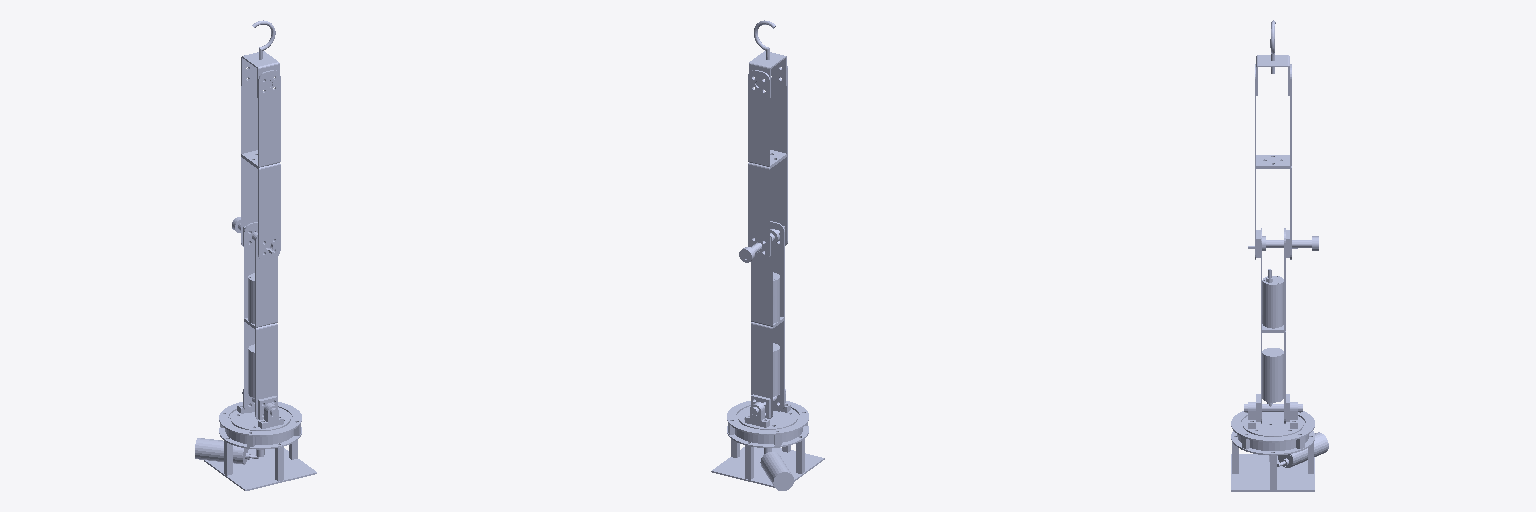
The robot description file, URDF, robot "Arm_Planet":
<?xml version="1.0" encoding="utf-8"?>
<!-- This URDF was automatically created by SolidWorks to URDF Exporter! Originally created by [author] ([email redacted]) 
     Commit Version: 1.6.0-1-g15f4949  Build Version: 1.6.7594.29634
     For more information, please see http://wiki.ros.org/sw_urdf_exporter -->
<robot
  name="Arm_Planet">
  <link
    name="base_link">
    <inertial>
      <origin
        xyz="-0.0141014063334698 0.0150363298774114 0.0206389702337933"
        rpy="0 0 0" />
      <mass
        value="0.0756504945211481" />
      <inertia
        ixx="3.72825003698555E-05"
        ixy="4.34660129124362E-06"
        ixz="4.06394105028578E-08"
        iyy="3.7356825493195E-05"
        iyz="-3.42845642809734E-08"
        izz="6.89161311210801E-05" />
    </inertial>
    <visual>
      <origin
        xyz="0 0 0"
        rpy="0 0 0" />
      <geometry>
        <mesh
          filename="package://Arm_Planet/meshes/base_link.STL" />
      </geometry>
      <material
        name="">
        <color
          rgba="0.792156862745098 0.819607843137255 0.933333333333333 1" />
      </material>
    </visual>
    <collision>
      <origin
        xyz="0 0 0"
        rpy="0 0 0" />
      <geometry>
        <mesh
          filename="package://Arm_Planet/meshes/base_link.STL" />
      </geometry>
    </collision>
  </link>
  <link
    name="swivel_link">
    <inertial>
      <origin
        xyz="-5.87917836688059E-06 5.87917836659957E-06 0.0577660567706198"
        rpy="0 0 0" />
      <mass
        value="0.0671123683100131" />
      <inertia
        ixx="3.26080656137997E-05"
        ixy="-2.25017714900538E-09"
        ixz="6.07725837555731E-22"
        iyy="3.29676327601522E-05"
        iyz="9.69541639612245E-22"
        izz="6.17257454202734E-05" />
    </inertial>
    <visual>
      <origin
        xyz="0 0 0"
        rpy="0 0 0" />
      <geometry>
        <mesh
          filename="package://Arm_Planet/meshes/swivel_link.STL" />
      </geometry>
      <material
        name="">
        <color
          rgba="0.792156862745098 0.819607843137255 0.933333333333333 1" />
      </material>
    </visual>
    <collision>
      <origin
        xyz="0 0 0"
        rpy="0 0 0" />
      <geometry>
        <mesh
          filename="package://Arm_Planet/meshes/swivel_link.STL" />
      </geometry>
    </collision>
  </link>
  <joint
    name="swivel_joint"
    type="continuous">
    <origin
      xyz="0 0 0"
      rpy="0 0 0" />
    <parent
      link="base_link" />
    <child
      link="swivel_link" />
    <axis
      xyz="0 0 1" />
    <limit
      lower="0"
      upper="0"
      effort="0"
      velocity="0" />
  </joint>
  <link
    name="planar_link_1">
    <inertial>
      <origin
        xyz="0.0861648271497534 0.00122459336292865 2.70214300849142E-05"
        rpy="0 0 0" />
      <mass
        value="0.10541072764971" />
      <inertia
        ixx="1.58996439496541E-05"
        ixy="-5.07791233841799E-09"
        ixz="-4.27972746139563E-09"
        iyy="7.48290537126194E-05"
        iyz="9.52185509306452E-09"
        izz="6.96582925138146E-05" />
    </inertial>
    <visual>
      <origin
        xyz="0 0 0"
        rpy="0 0 0" />
      <geometry>
        <mesh
          filename="package://Arm_Planet/meshes/planar_link_1.STL" />
      </geometry>
      <material
        name="">
        <color
          rgba="0.792156862745098 0.819607843137255 0.933333333333333 1" />
      </material>
    </visual>
    <collision>
      <origin
        xyz="0 0 0"
        rpy="0 0 0" />
      <geometry>
        <mesh
          filename="package://Arm_Planet/meshes/planar_link_1.STL" />
      </geometry>
    </collision>
  </link>
  <joint
    name="planar_joint_1"
    type="continuous">
    <origin
      xyz="0 0 0.086"
      rpy="1.5708 -1.5708 0" />
    <parent
      link="swivel_link" />
    <child
      link="planar_link_1" />
    <axis
      xyz="0 0 1" />
    <limit
      lower="0"
      upper="0"
      effort="0"
      velocity="0" />
  </joint>
  <link
    name="planar_link_2">
    <inertial>
      <origin
        xyz="0.0958032517884897 -1.22818422099158E-15 -0.00289882232752531"
        rpy="0 0 0" />
      <mass
        value="0.0525608874236978" />
      <inertia
        ixx="2.05582341768284E-05"
        ixy="4.41903180393255E-21"
        ixz="-6.09851877156358E-21"
        iyy="6.71893344302594E-05"
        iyz="-7.20235502011744E-21"
        izz="5.34389348709685E-05" />
    </inertial>
    <visual>
      <origin
        xyz="0 0 0"
        rpy="0 0 0" />
      <geometry>
        <mesh
          filename="package://Arm_Planet/meshes/planar_link_2.STL" />
      </geometry>
      <material
        name="">
        <color
          rgba="0.792156862745098 0.819607843137255 0.933333333333333 1" />
      </material>
    </visual>
    <collision>
      <origin
        xyz="0 0 0"
        rpy="0 0 0" />
      <geometry>
        <mesh
          filename="package://Arm_Planet/meshes/planar_link_2.STL" />
      </geometry>
    </collision>
  </link>
  <joint
    name="planar_joint_2"
    type="continuous">
    <origin
      xyz="0.215 0 0"
      rpy="0 0 0" />
    <parent
      link="planar_link_1" />
    <child
      link="planar_link_2" />
    <axis
      xyz="0 0 1" />
    <limit
      lower="0"
      upper="0"
      effort="0"
      velocity="0" />
  </joint>
  <link
    name="ee_link">
    <inertial>
      <origin
        xyz="-0.0058243321818386 0.000256152823266298 0.0221693599317853"
        rpy="0 0 0" />
      <mass
        value="0.00187793691093205" />
      <inertia
        ixx="7.63090154927273E-07"
        ixy="4.86403341564162E-09"
        ixz="7.44359619992794E-08"
        iyy="8.72070537887321E-07"
        iyz="-3.34978702323009E-09"
        izz="1.1528036464683E-07" />
    </inertial>
    <visual>
      <origin
        xyz="0 0 0"
        rpy="0 0 0" />
      <geometry>
        <mesh
          filename="package://Arm_Planet/meshes/ee_link.STL" />
      </geometry>
      <material
        name="">
        <color
          rgba="0.792156862745098 0.819607843137255 0.933333333333333 1" />
      </material>
    </visual>
    <collision>
      <origin
        xyz="0 0 0"
        rpy="0 0 0" />
      <geometry>
        <mesh
          filename="package://Arm_Planet/meshes/ee_link.STL" />
      </geometry>
    </collision>
  </link>
  <joint
    name="ee_joint_fixed"
    type="fixed">
    <origin
      xyz="0.24 0 0"
      rpy="1.5708 0 1.5708" />
    <parent
      link="planar_link_2" />
    <child
      link="ee_link" />
    <axis
      xyz="0 0 0" />
  </joint>
</robot>

--- Facts derived from the render (not from the file) ---
3 views of the same robot in one strip: view 1: azimuth 30°, elevation 25°; view 2: azimuth 150°, elevation 25°; view 3: azimuth 270°, elevation 25° (orthographic).
Model Arm_Planet with 5 links and 4 joints (3 continuous, 1 fixed), rooted at base_link, posed every joint at zero.
Visible links, largest first — view 1: planar_link_2, planar_link_1, base_link, swivel_link; view 2: planar_link_2, planar_link_1, base_link, swivel_link; view 3: base_link, planar_link_1, planar_link_2, swivel_link.
Link boxes in pixels (x1,y1,x2,y2): planar_link_2: (232,51,280,260); planar_link_1: (242,222,278,419); base_link: (195,402,316,490); swivel_link: (225,403,293,456); planar_link_2: (739,51,787,262); planar_link_1: (750,221,785,418); base_link: (711,401,824,490); swivel_link: (735,392,802,453); base_link: (1231,411,1328,491); planar_link_1: (1244,228,1302,423); planar_link_2: (1248,55,1318,259); swivel_link: (1237,402,1308,461).
Bounding box of the posed robot: 0.114 × 0.1162 × 0.5915 m (x, y, z).
Meshes: 5 distinct files referenced, 5 mesh visuals loaded (5 binary STL).